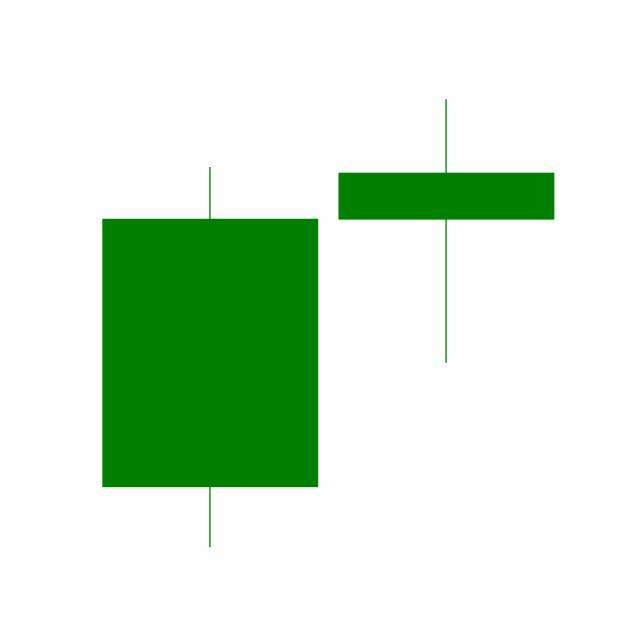Spinning Top: (328, 97, 566, 367)
